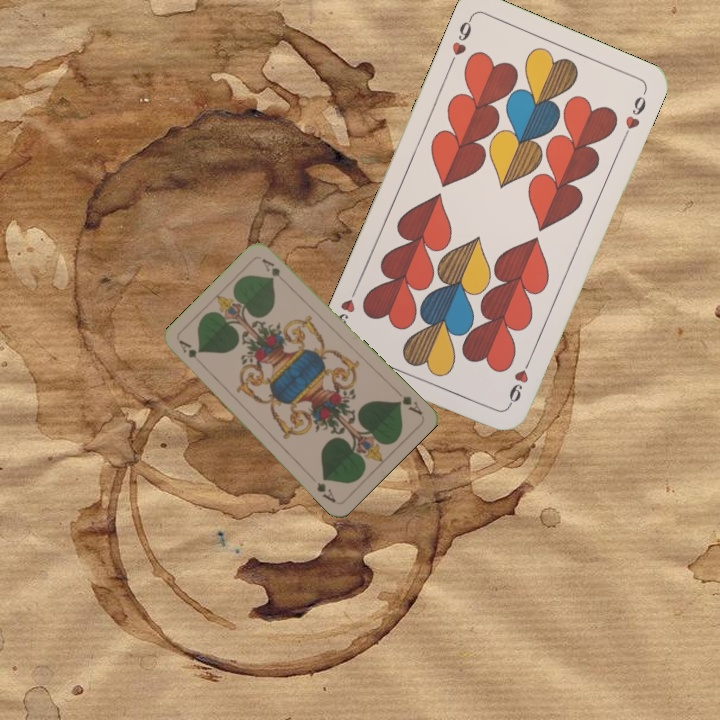GA: (393, 392, 425, 418), (175, 336, 199, 361)
H9: (503, 353, 535, 409), (445, 13, 475, 69)
